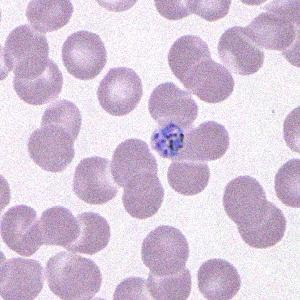Infected: (149, 117, 193, 158)
Uninfected: (139, 223, 190, 274), (48, 253, 103, 300), (94, 66, 143, 117), (71, 155, 121, 204), (111, 137, 159, 188), (223, 175, 269, 226), (4, 23, 48, 76), (238, 11, 296, 51), (236, 202, 288, 246), (25, 124, 73, 171), (13, 56, 61, 103), (216, 27, 264, 74), (147, 80, 196, 126), (1, 205, 41, 258), (119, 172, 163, 220), (67, 209, 111, 257), (39, 98, 82, 147), (62, 30, 105, 79), (186, 61, 234, 104), (0, 254, 44, 300), (185, 117, 229, 163), (198, 255, 241, 300), (168, 37, 209, 81), (146, 259, 190, 300), (166, 157, 209, 197), (38, 205, 79, 246), (27, 0, 75, 31)
